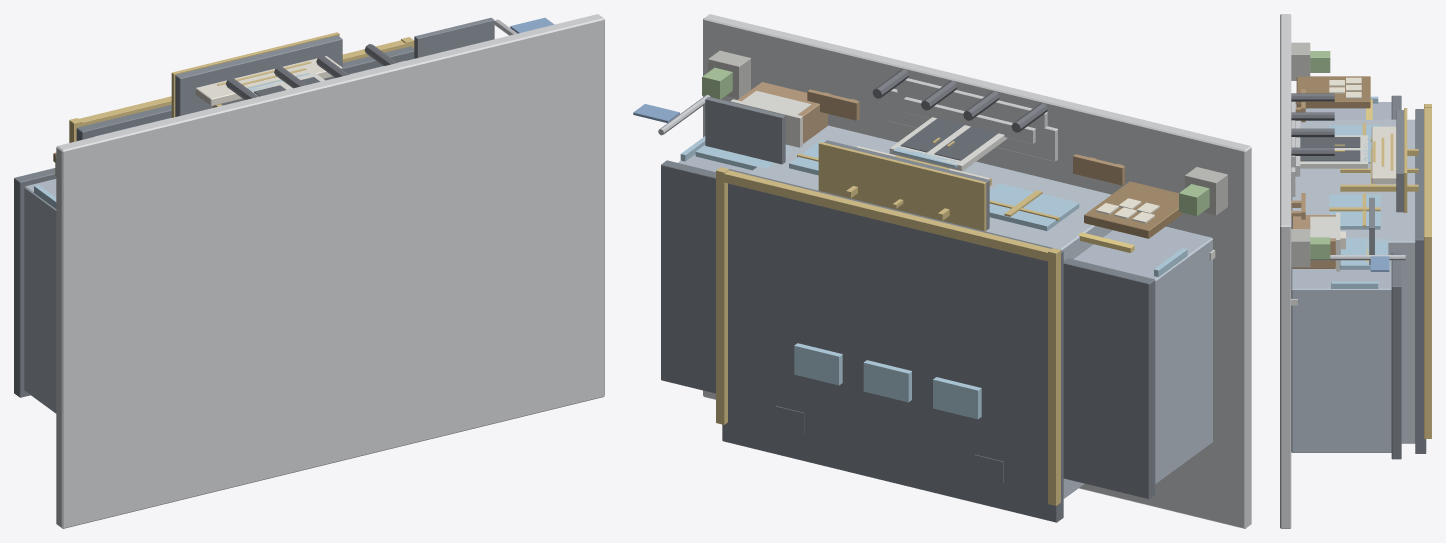
Rendered from laborexchange.fbx.
3 renders of one model, left to right at view 1: azimuth 30°, elevation 25°; view 2: azimuth 150°, elevation 25°; view 3: azimuth 270°, elevation 25°, orthographic. The views are drawn at different scales.
Visible parts, largest first — view 1: GroundBase, SideWing_Left, LobbyRoof, SideRoof_Left, MainRoof, DeskCanopy, LaborSignBoard, RoofParapet_Front, LobbyTrim; view 2: MainRoof, GroundBase, SideRoof_Left, SideWing_Left, SideRoof_Right, LobbyTrim, MainHall, RoofParapet_Front, DeskCanopy, RoofParapet_Left, RoofParapet_Right, VacancyBoard (+21 smaller); view 3: SideWing_Right, MainHall, GroundBase, MainRoof, SideRoof_Right, VacancyBoard, RoofParapet_Right, LaborSignBoard, FrontWindow_Right, RoofParapet_Front, DeskWindowFrame, EntranceDoor_Frame (+27 smaller).
Boxes of the visible parts, x1,y1,x2,y2 form: GroundBase: [56, 14, 604, 528]; SideWing_Left: [24, 179, 56, 413]; LobbyRoof: [175, 35, 342, 116]; SideRoof_Left: [14, 168, 56, 397]; MainRoof: [76, 46, 414, 140]; DeskCanopy: [414, 17, 494, 58]; LaborSignBoard: [195, 56, 342, 106]; RoofParapet_Front: [76, 40, 412, 132]; LobbyTrim: [171, 32, 339, 117]; MainRoof: [722, 169, 1063, 522]; GroundBase: [703, 14, 1251, 528]; SideRoof_Left: [1063, 258, 1155, 499]; SideWing_Left: [1073, 226, 1212, 483]; SideRoof_Right: [661, 160, 715, 393]; LobbyTrim: [818, 142, 986, 231]; MainHall: [748, 125, 1112, 498]; RoofParapet_Front: [718, 170, 1054, 262]; DeskCanopy: [705, 96, 785, 164]; RoofParapet_Left: [1048, 248, 1060, 505]; RoofParapet_Right: [716, 167, 728, 424]; VacancyBoard: [1084, 181, 1183, 238]; SideWing_Right: [1291, 260, 1391, 452]; MainHall: [1291, 119, 1415, 443]; GroundBase: [1280, 14, 1291, 528]; MainRoof: [1415, 109, 1426, 453]; SideRoof_Right: [1391, 252, 1401, 459]; VacancyBoard: [1296, 76, 1370, 108]; RoofParapet_Right: [1424, 233, 1431, 438]; LaborSignBoard: [1371, 126, 1396, 183]; FrontWindow_Right: [1329, 194, 1380, 229]; RoofParapet_Front: [1424, 108, 1431, 233]; DeskWindowFrame: [1340, 238, 1388, 269]; EntranceDoor_Frame: [1300, 135, 1368, 168].
Size of the model in its own units: 913 by 600 by 272.
